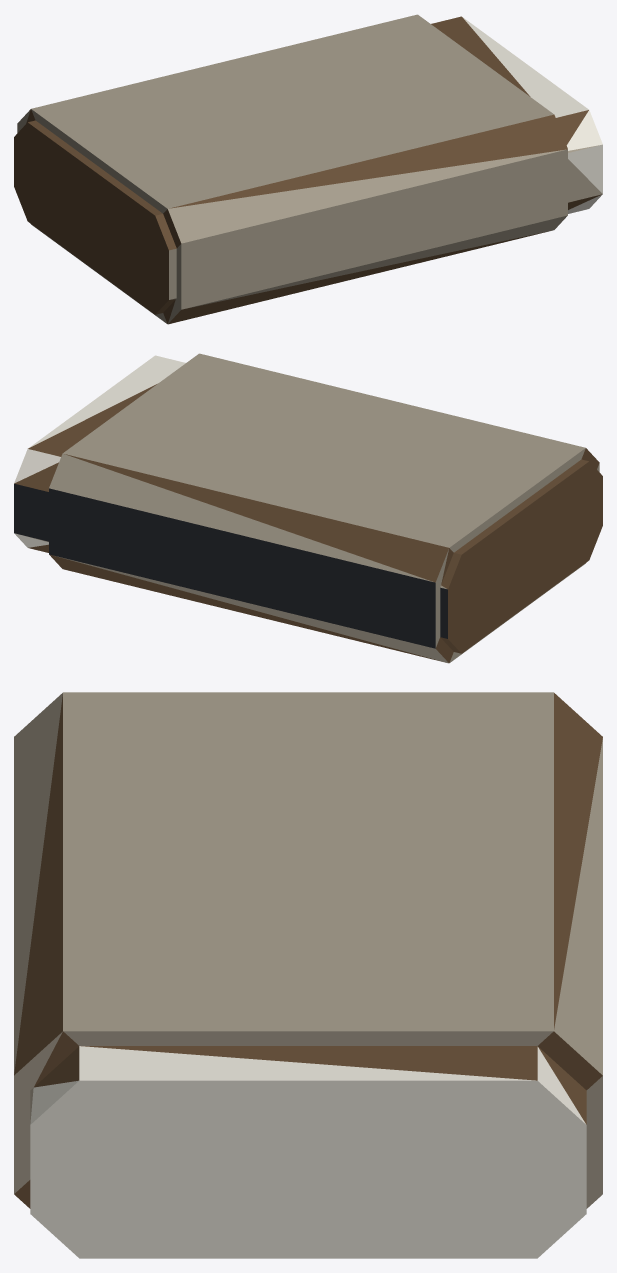
Rendered from matchbox.glb.
3 views of the same model, one above another, from view 1: azimuth 30°, elevation 25°; view 2: azimuth 150°, elevation 25°; view 3: azimuth 270°, elevation 25° (orthographic). The views are drawn at different scales.
Visible parts, largest first — view 1: matchbox; view 2: matchbox; view 3: matchbox.
Boxes of the visible parts, box(x1,y1,x2,y2) form: matchbox: box(14, 14, 602, 324); matchbox: box(14, 353, 602, 663); matchbox: box(14, 692, 602, 1258).
Bounding box in the file's own units: 0.055 × 0.014 × 0.036.
